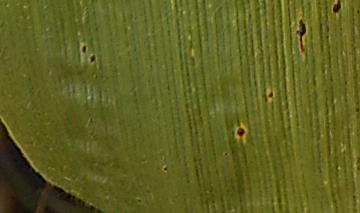tarspot: (295, 17, 306, 53), (329, 1, 345, 16), (234, 123, 247, 140), (86, 52, 98, 66), (78, 43, 89, 54), (222, 147, 230, 161), (267, 90, 276, 101), (162, 164, 170, 175)
